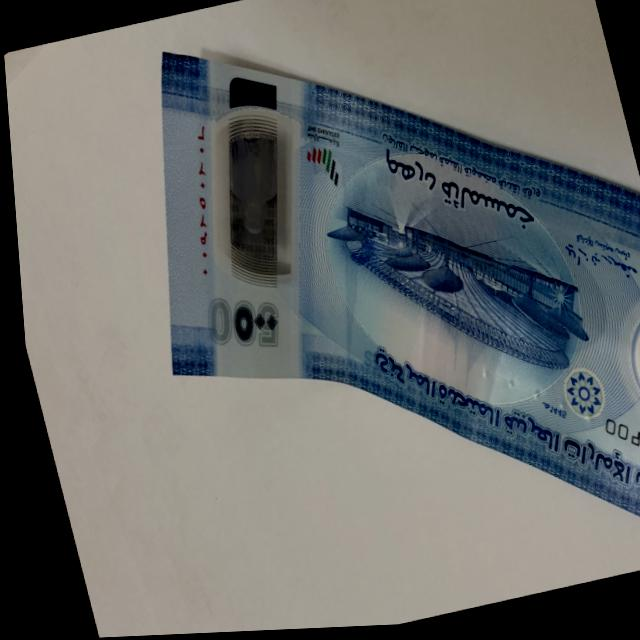500_AED: (156, 44, 640, 525)
